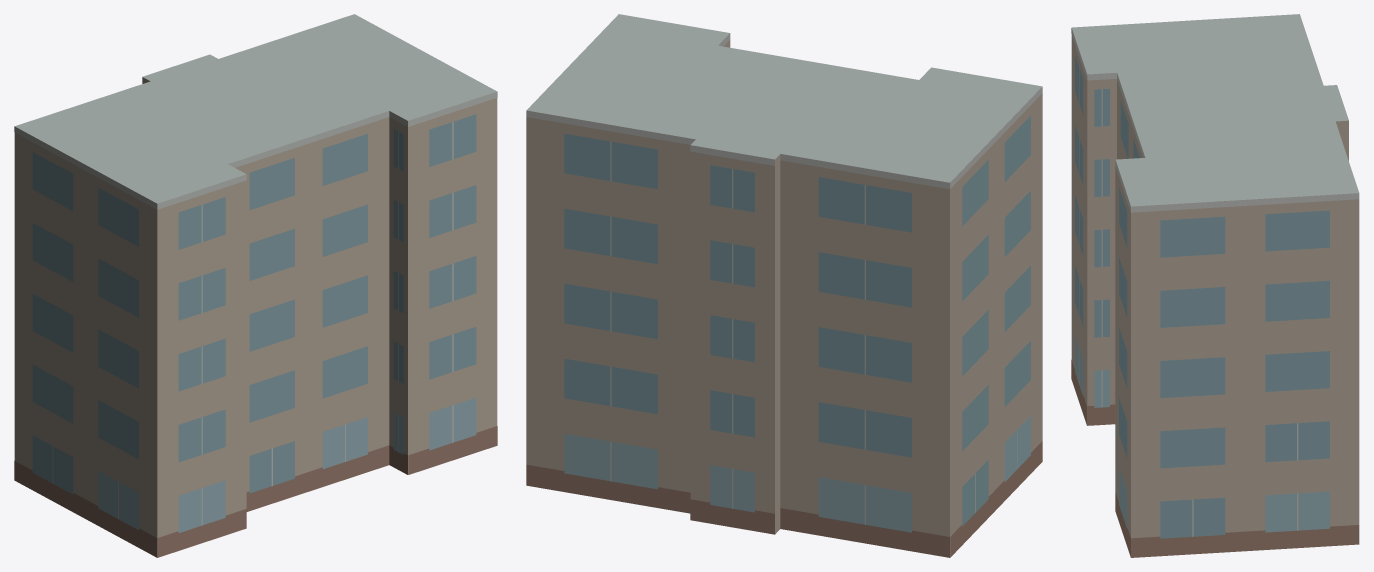
Rendered from survey-upis-32542604.glb.
3 renders of one model, left to right at view 1: azimuth 30°, elevation 25°; view 2: azimuth 150°, elevation 25°; view 3: azimuth 270°, elevation 25°, orthographic. The views are drawn at different scales.
Parts seen in each view (by area): view 1: survey-upis-32542604.tmp; view 2: survey-upis-32542604.tmp; view 3: survey-upis-32542604.tmp.
Boxes of the visible parts, box(x1,y1,x2,y2) form: survey-upis-32542604.tmp: box(14, 14, 497, 557); survey-upis-32542604.tmp: box(526, 14, 1042, 557); survey-upis-32542604.tmp: box(1071, 14, 1359, 557).
Size of the model in its own units: 16.71 by 14.2 by 10.56.
